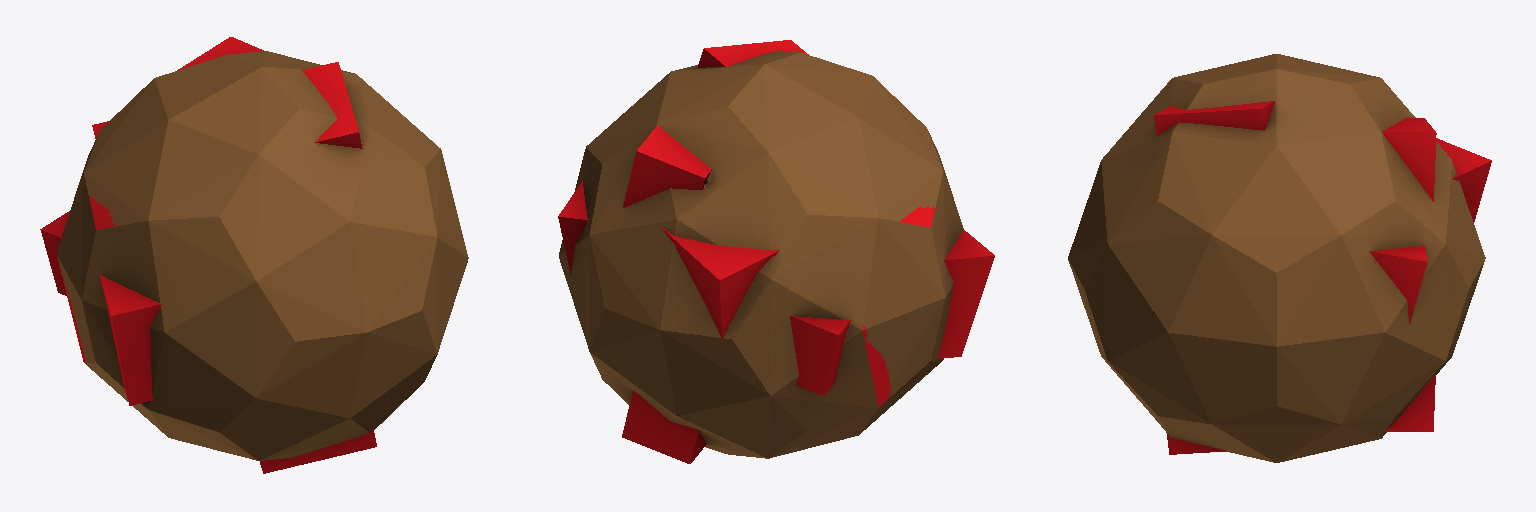
The picture shows the model from 3 angles: view 1: azimuth 30°, elevation 25°; view 2: azimuth 150°, elevation 25°; view 3: azimuth 270°, elevation 25°; orthographic projection.
Visible parts, largest first — view 1: meteor; view 2: meteor; view 3: meteor.
Boxes of the visible parts, <box> form: meteor: <box>40,37,468,473</box>; meteor: <box>558,40,994,463</box>; meteor: <box>1068,54,1491,462</box>.
Bounding box in the file's own units: 20.53 × 19.99 × 20.29.
1 materials, 1 textured.